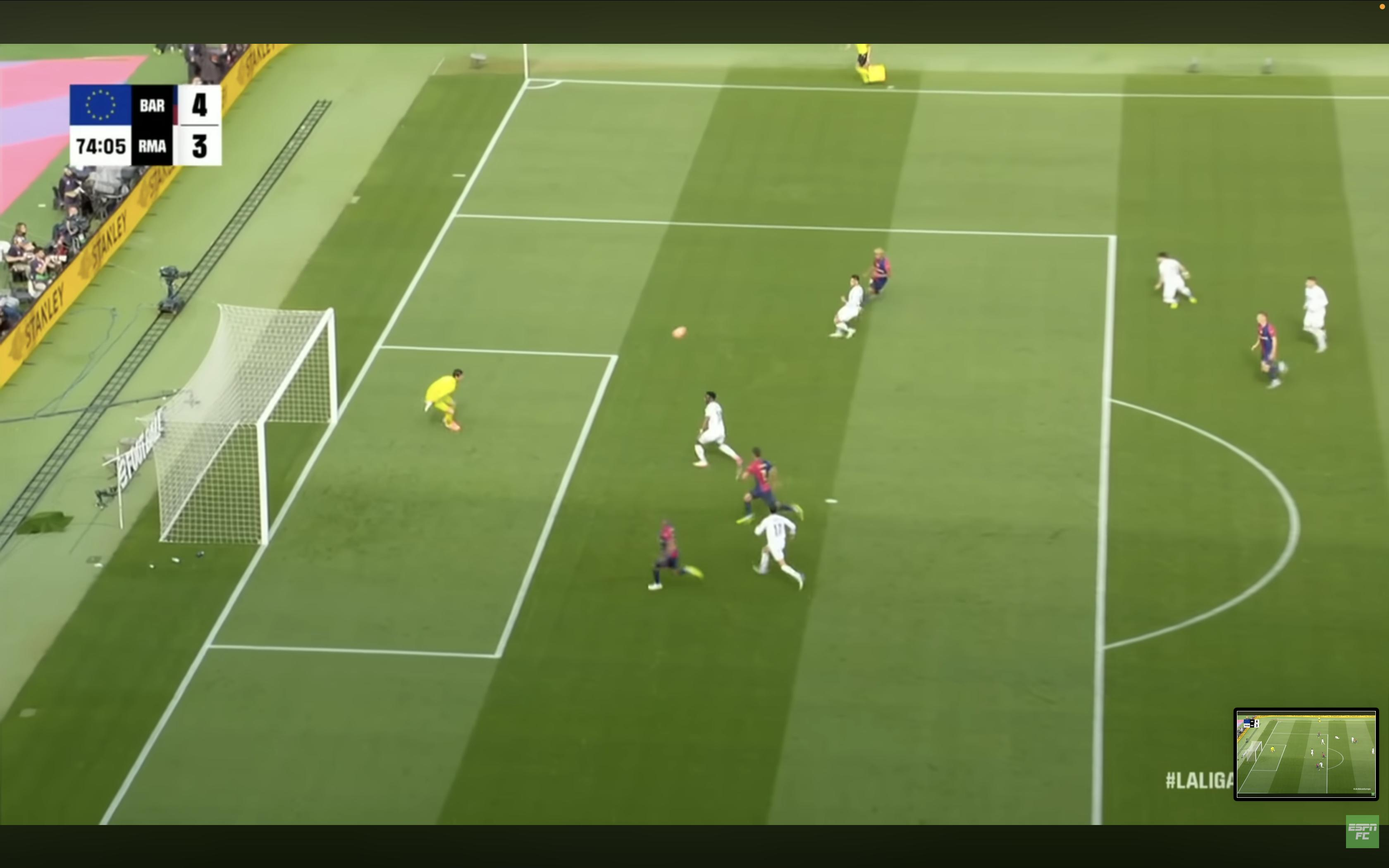ball: (671, 327, 688, 340)
goalkeeper: (425, 369, 464, 432)
player: (737, 448, 803, 524), (694, 391, 742, 475), (648, 521, 704, 590), (754, 513, 804, 589), (1251, 312, 1287, 389), (1155, 253, 1196, 309), (829, 275, 864, 338), (1303, 277, 1328, 353), (870, 248, 891, 297)
referee: (854, 44, 885, 83)
